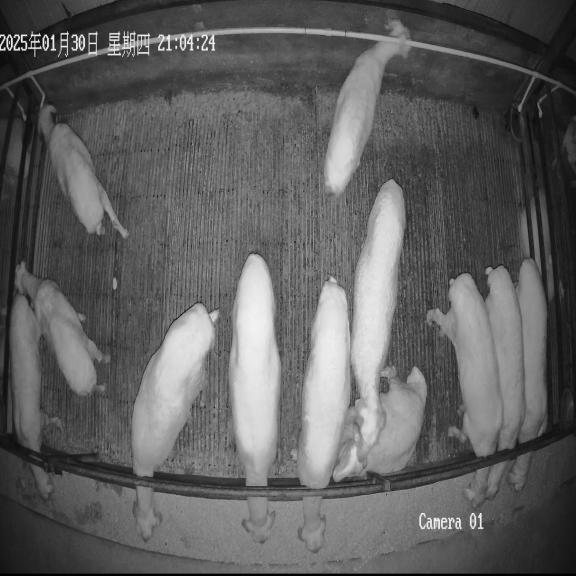drinking: (38, 104, 128, 238)
eating: (131, 303, 219, 540), (427, 273, 503, 508), (292, 276, 351, 553), (228, 253, 281, 543), (9, 293, 61, 500), (508, 258, 548, 491), (486, 265, 525, 498)
lying: (332, 366, 427, 482)
stand: (351, 180, 405, 463), (324, 19, 410, 196), (14, 261, 110, 396)
